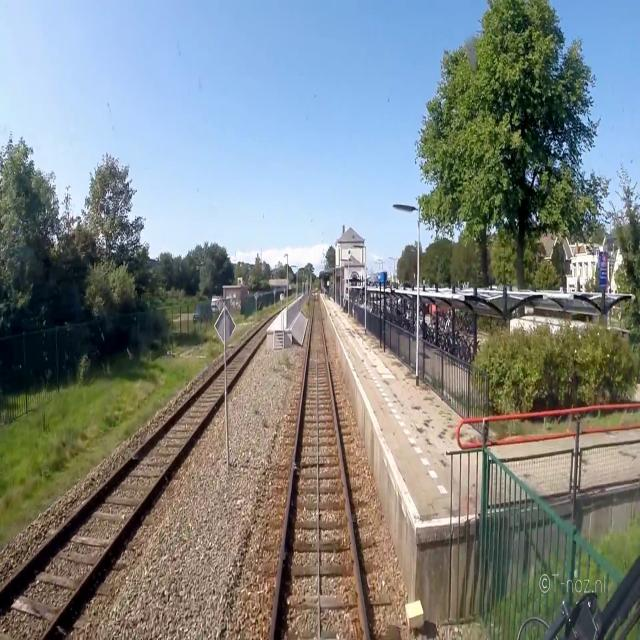rail-track: (0, 365, 224, 639), (273, 300, 364, 639), (227, 312, 280, 384)
